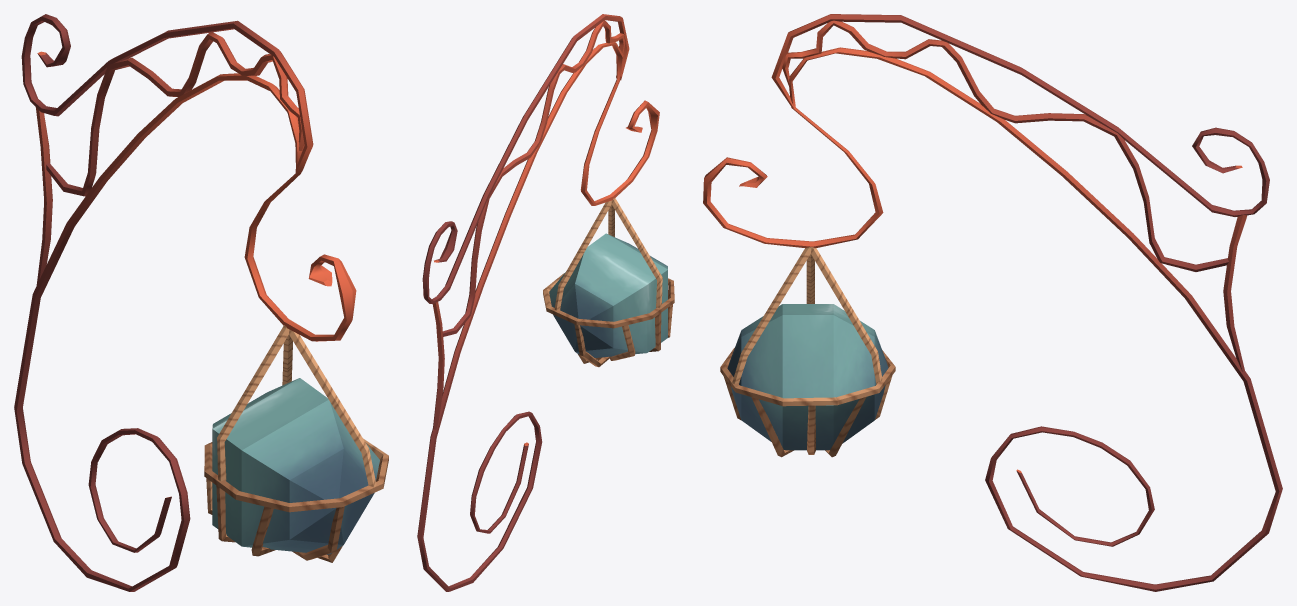
Rendered from HangingLight.fbx.
3 renders of one model, left to right at view 1: azimuth 30°, elevation 25°; view 2: azimuth 150°, elevation 25°; view 3: azimuth 270°, elevation 25°, orthographic. The views are drawn at different scales.
Parts seen in each view (by area): view 1: HangingLight; view 2: HangingLight; view 3: HangingLight.
Boxes of the visible parts, x1,y1,x2,y2 form: HangingLight: [14, 14, 388, 591]; HangingLight: [417, 14, 674, 591]; HangingLight: [703, 14, 1282, 591].
Bounding box in the file's own units: 1.51 × 6.19 × 5.64.
